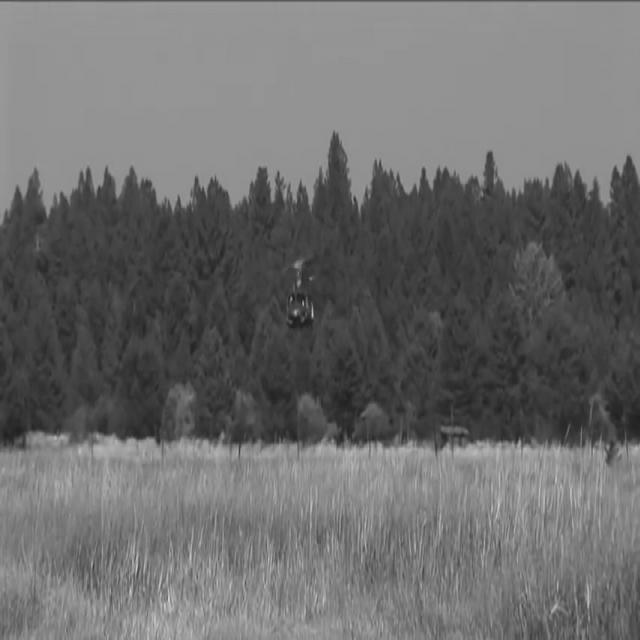helikopter: (261, 248, 346, 350)
